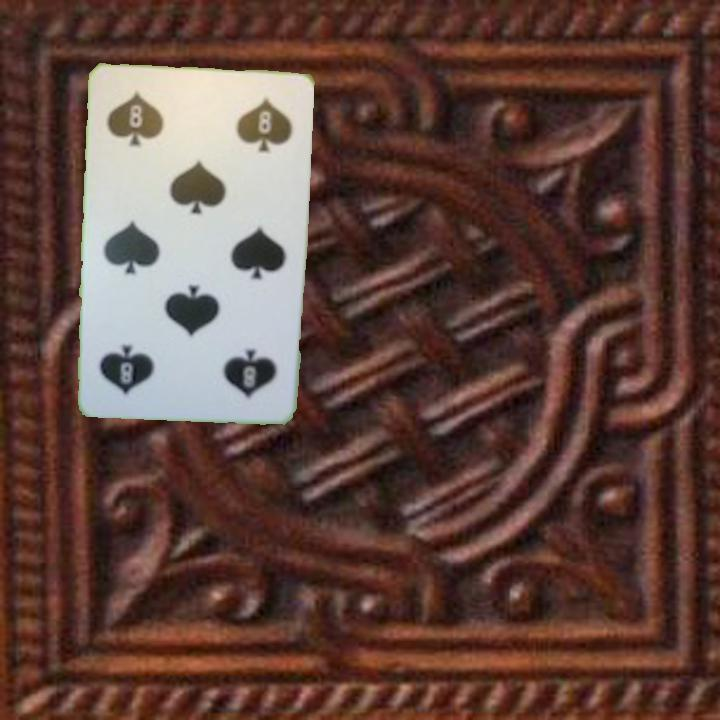s_8.png: (184, 319, 288, 409), (100, 79, 204, 169)
